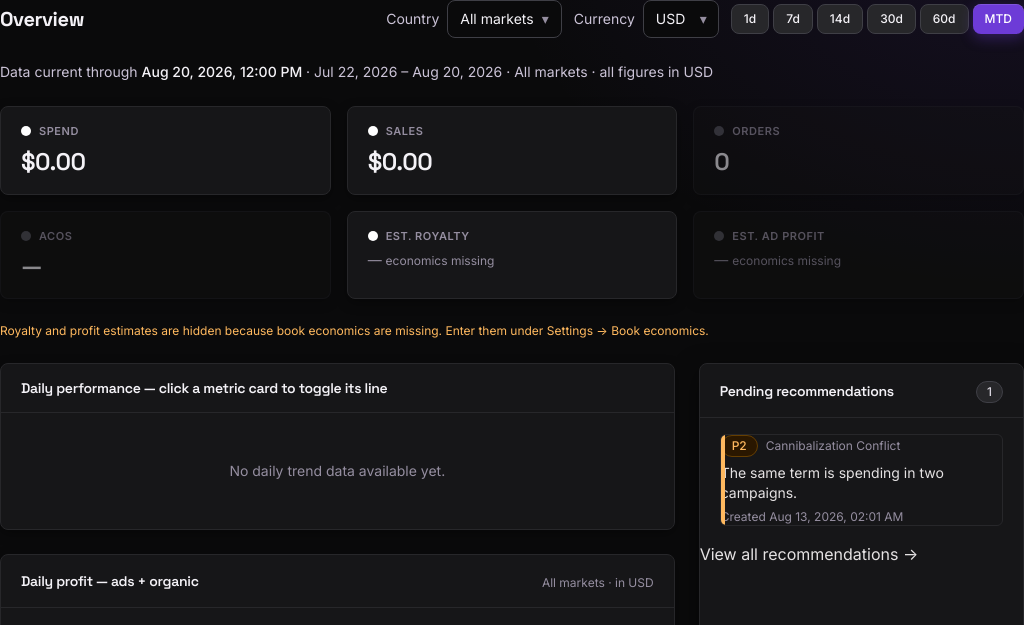
Test case: OverviewPage all-markets gating › enables the All markets option when rates are available
Click the button with aria-label "Country". click: (504, 19)
box: x1=447 y1=0 x2=562 y2=38
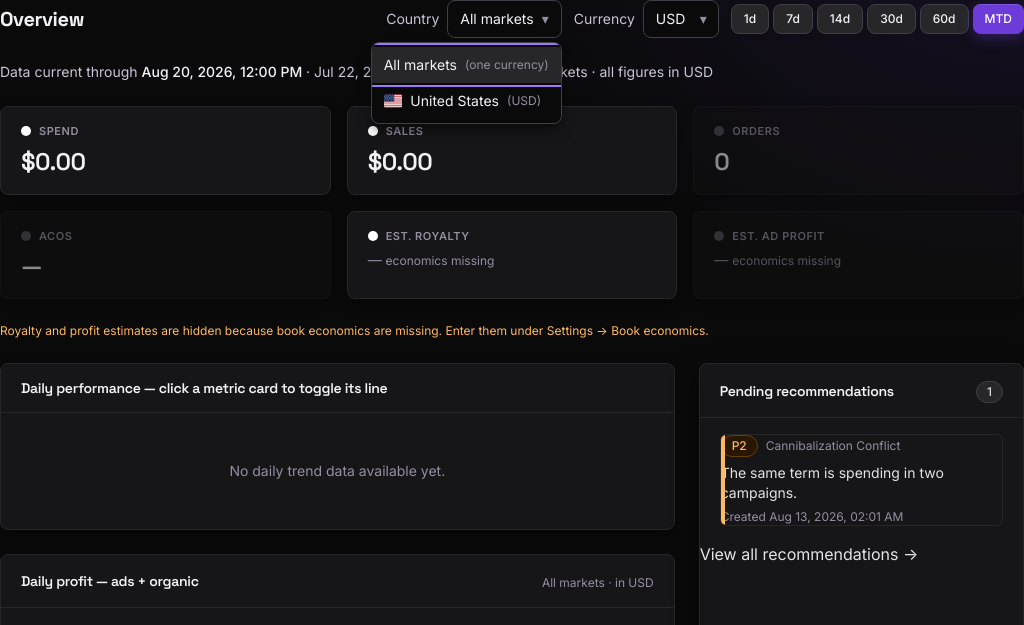
Result: the button "All markets (one currency)" is enabled at x1=372 y1=47 x2=561 y2=83
